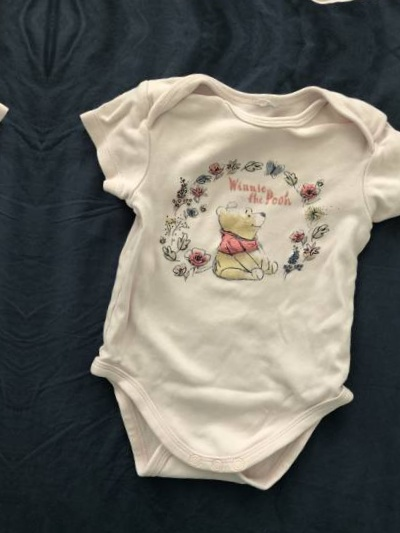Body: (25, 49, 400, 523), (0, 12, 35, 487), (69, 0, 400, 29)
